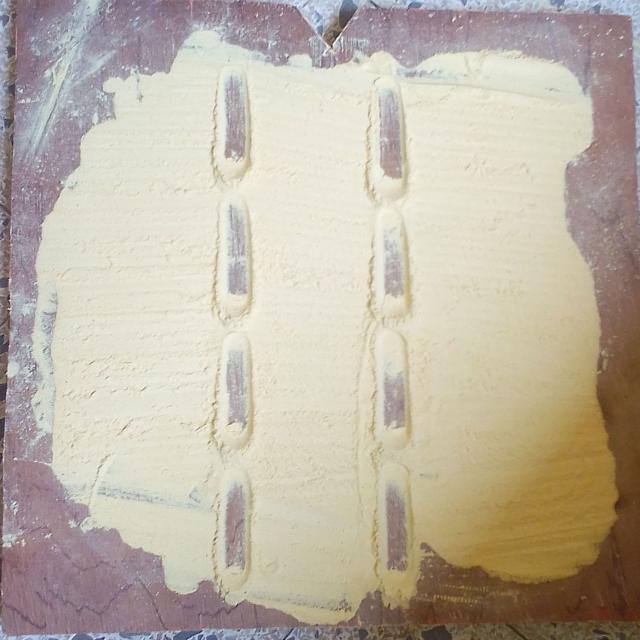single: (360, 70, 415, 208), (370, 325, 416, 468), (210, 332, 256, 470), (366, 212, 417, 322), (214, 200, 256, 326), (214, 72, 256, 195), (214, 475, 254, 595), (374, 484, 414, 580)
